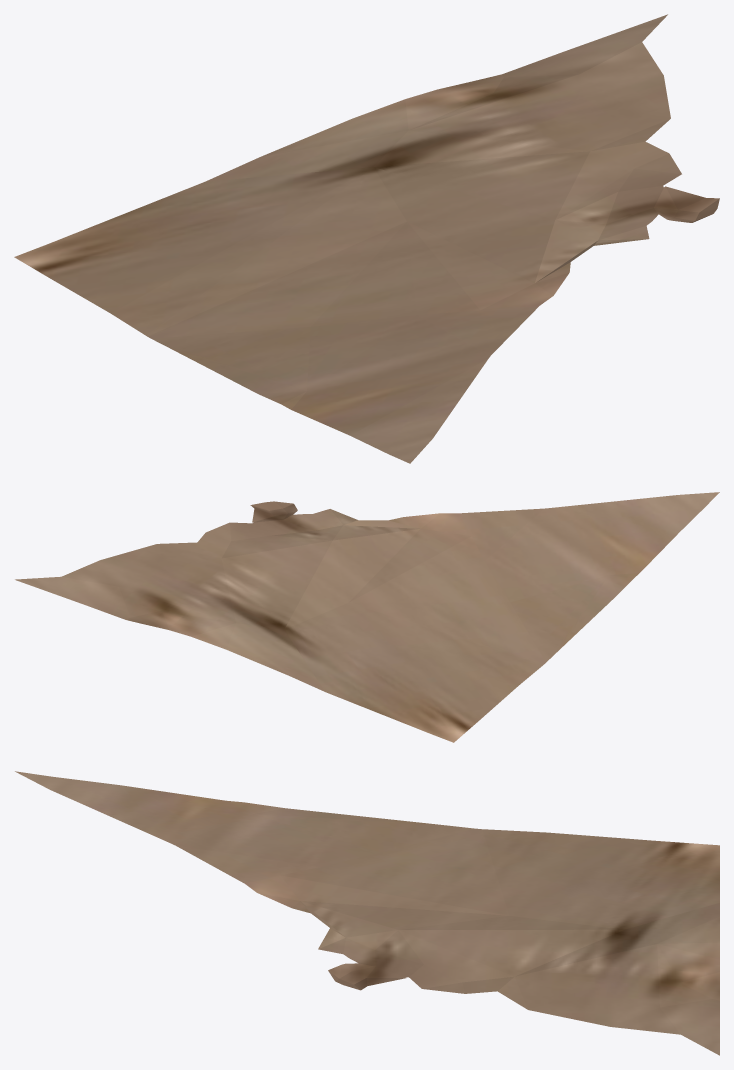
3 views of the same model, one above another, from view 1: azimuth 30°, elevation 25°; view 2: azimuth 150°, elevation 25°; view 3: azimuth 270°, elevation 25° (orthographic). The views are drawn at different scales.
Bounding box in the file's own units: 0.985 × 0.1198 × 1.03.
Materials: 1 (1 with a texture image).
